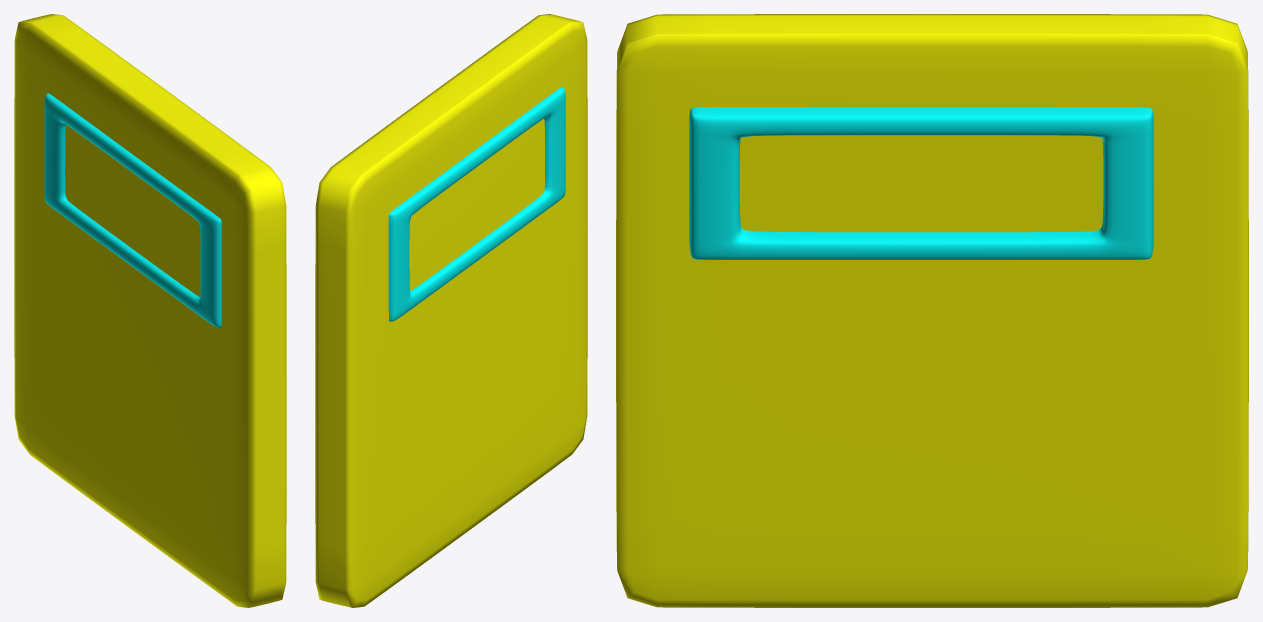
3 renders of one model, left to right at view 1: azimuth 30°, elevation 25°; view 2: azimuth 150°, elevation 25°; view 3: azimuth 270°, elevation 25°, orthographic. The views are drawn at different scales.
Parts seen in each view (by area): view 1: pasted__pCube461; view 2: pasted__pCube461; view 3: pasted__pCube461.
Boxes of the visible parts, box(x1,y1,x2,y2) form: pasted__pCube461: box(14, 14, 286, 607); pasted__pCube461: box(315, 14, 587, 607); pasted__pCube461: box(616, 14, 1248, 607).
Bounding box in the file's own units: 0.1498 × 0.9994 × 0.9994.
